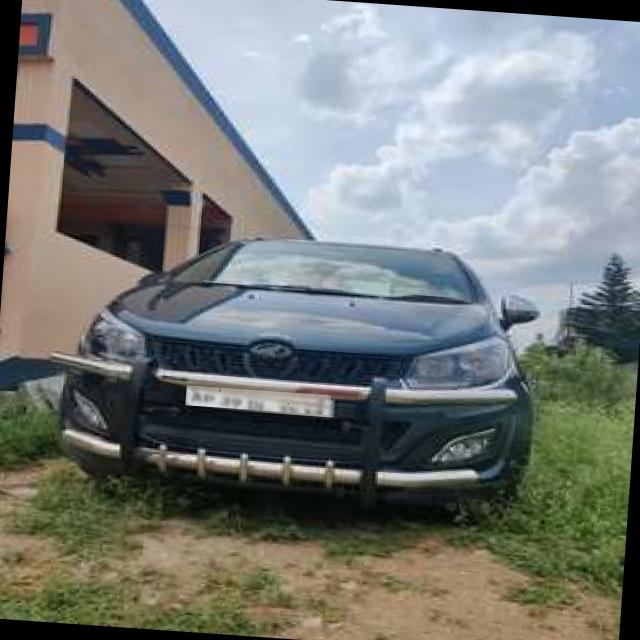Plate: (187, 386, 334, 416)
